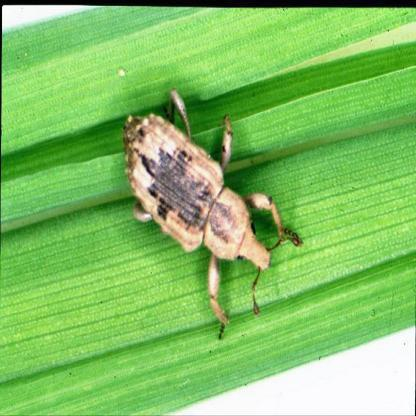rice-bug: (123, 91, 279, 293)
